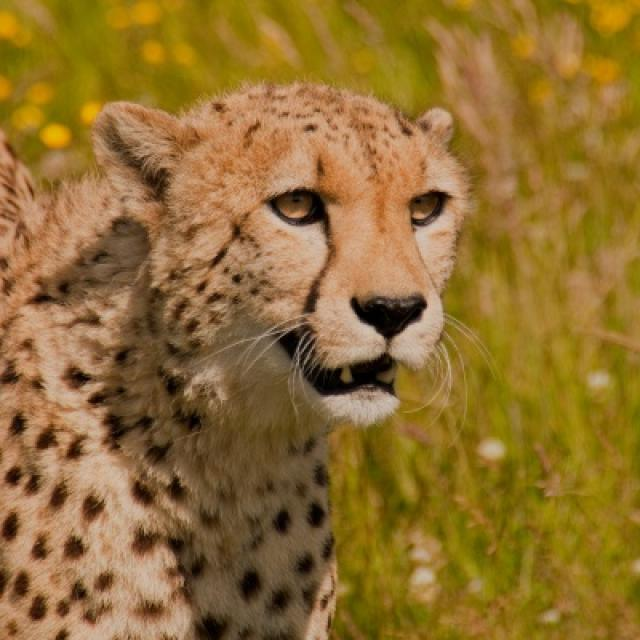Cheetah: (0, 78, 473, 638)
